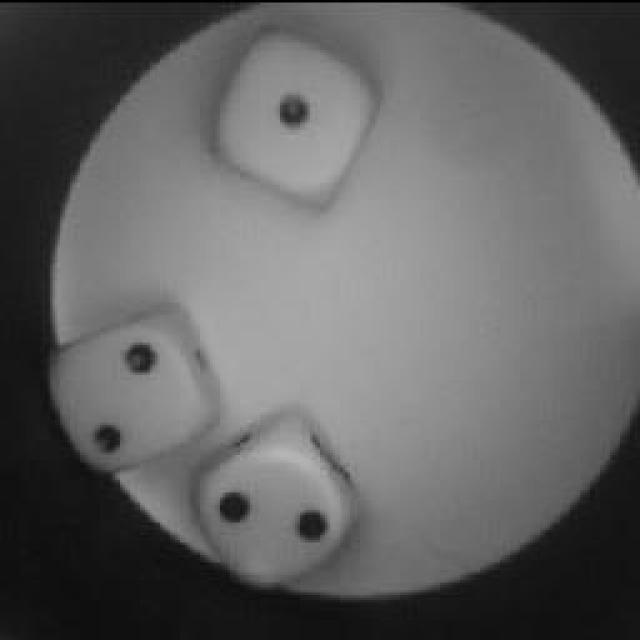dice_1: (205, 22, 387, 202)
dice_2: (190, 400, 365, 588), (47, 300, 215, 472)
